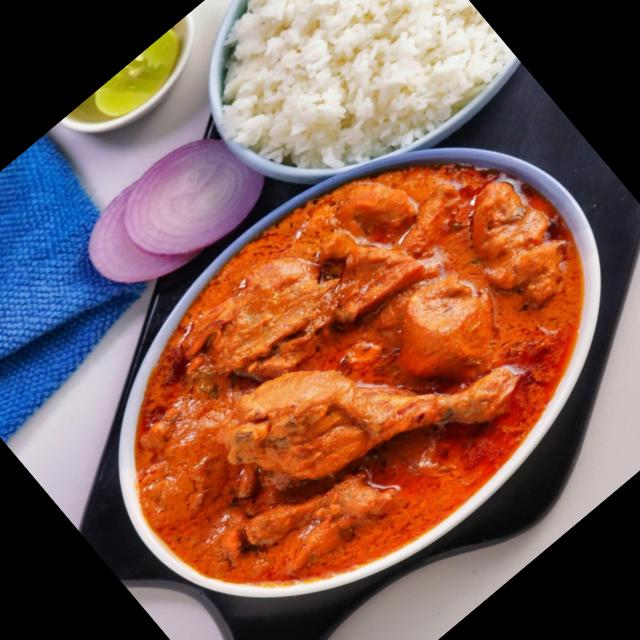chicken: (140, 140, 636, 620)
